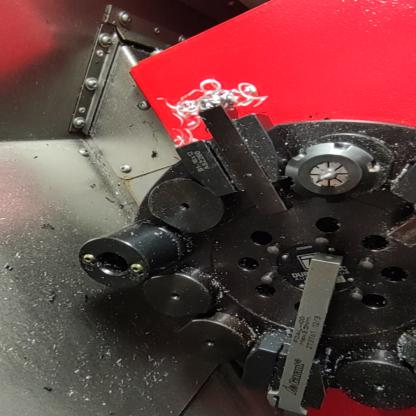bit: (232, 247, 350, 416), (166, 99, 298, 221)
